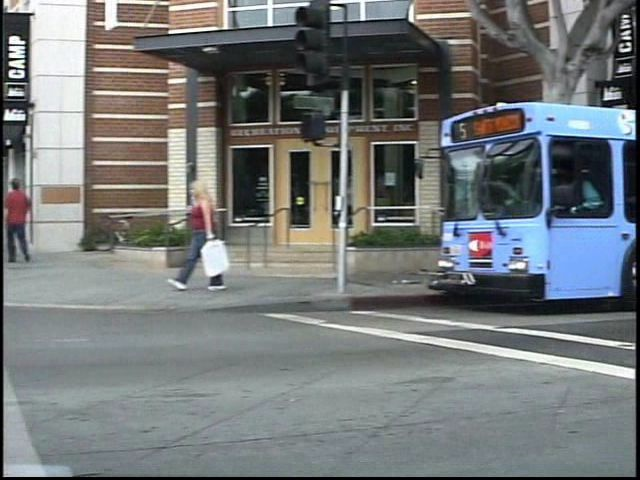person: (183, 177, 238, 297)
